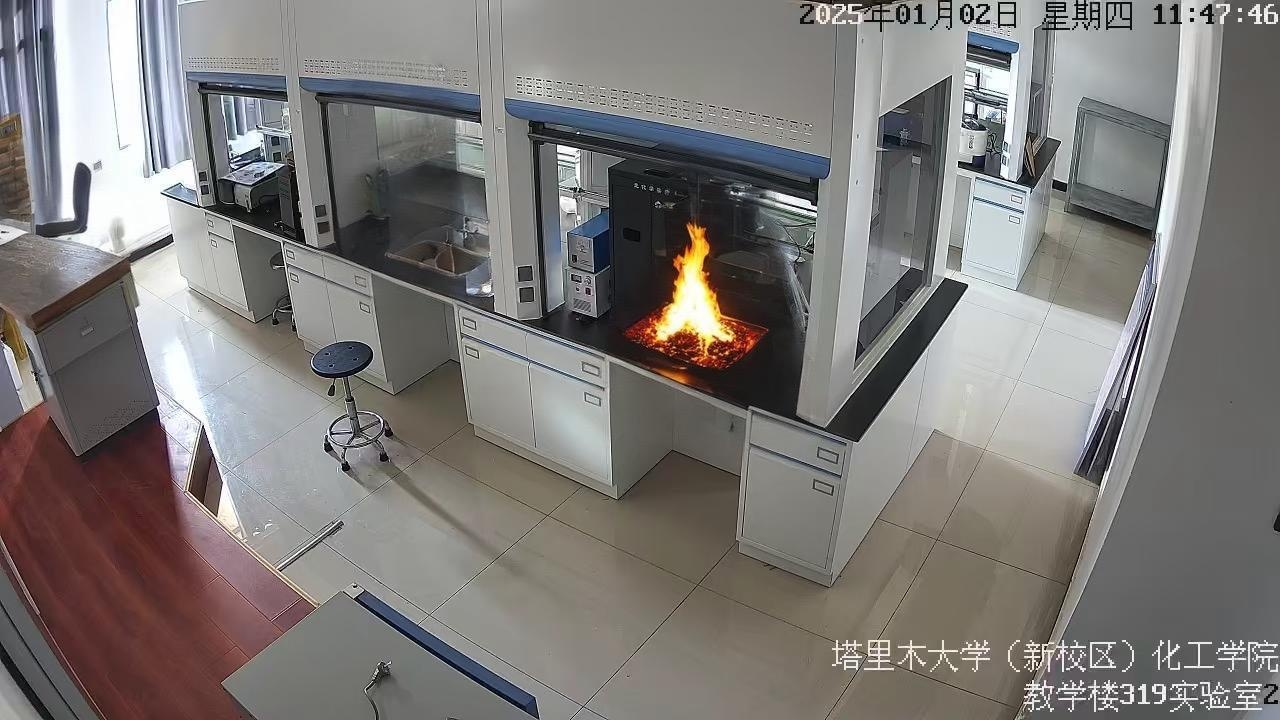fire: (632, 193, 753, 365)
